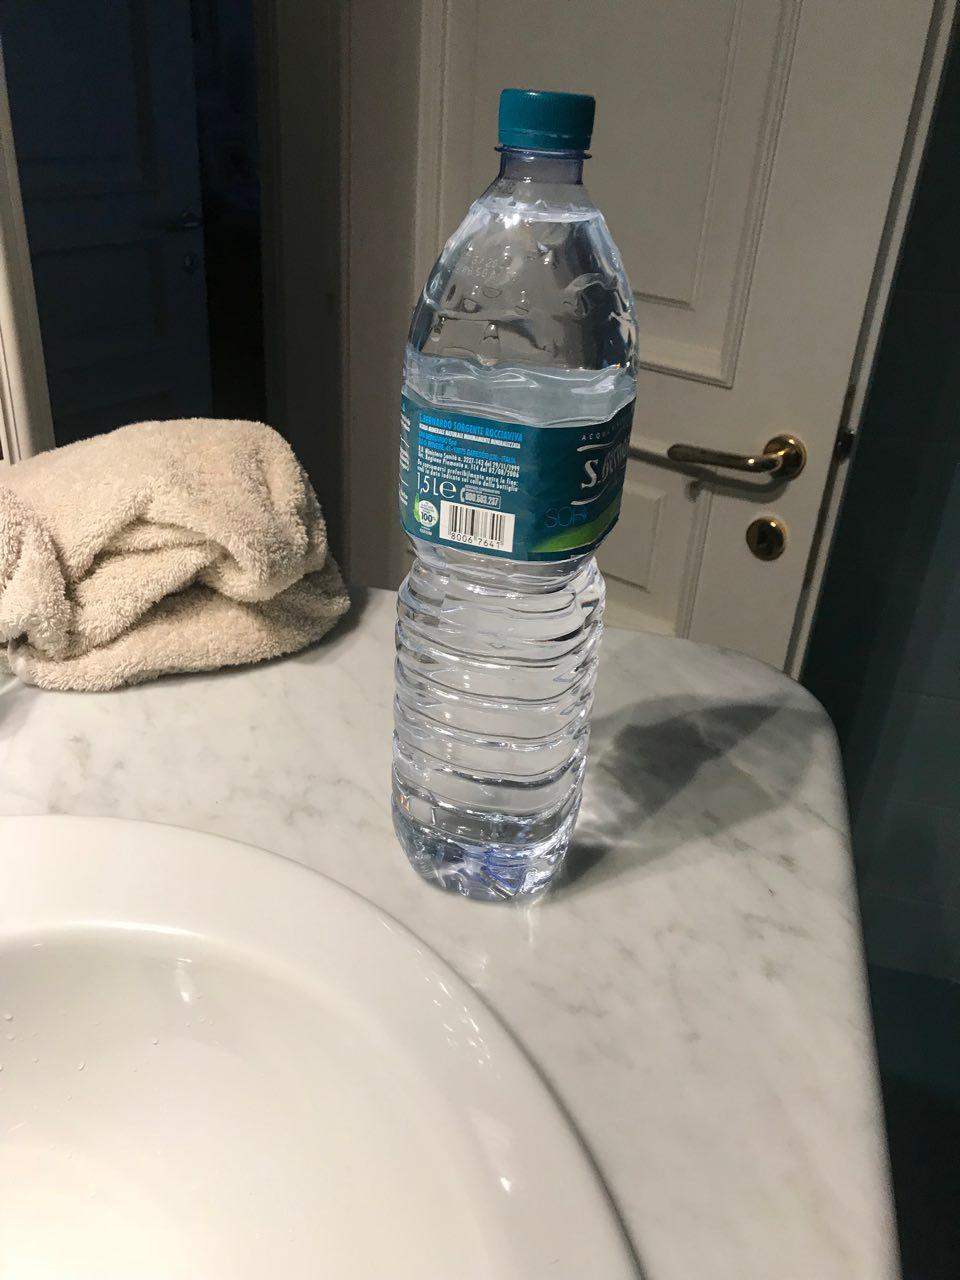san_bernardo: (390, 86, 637, 903)
